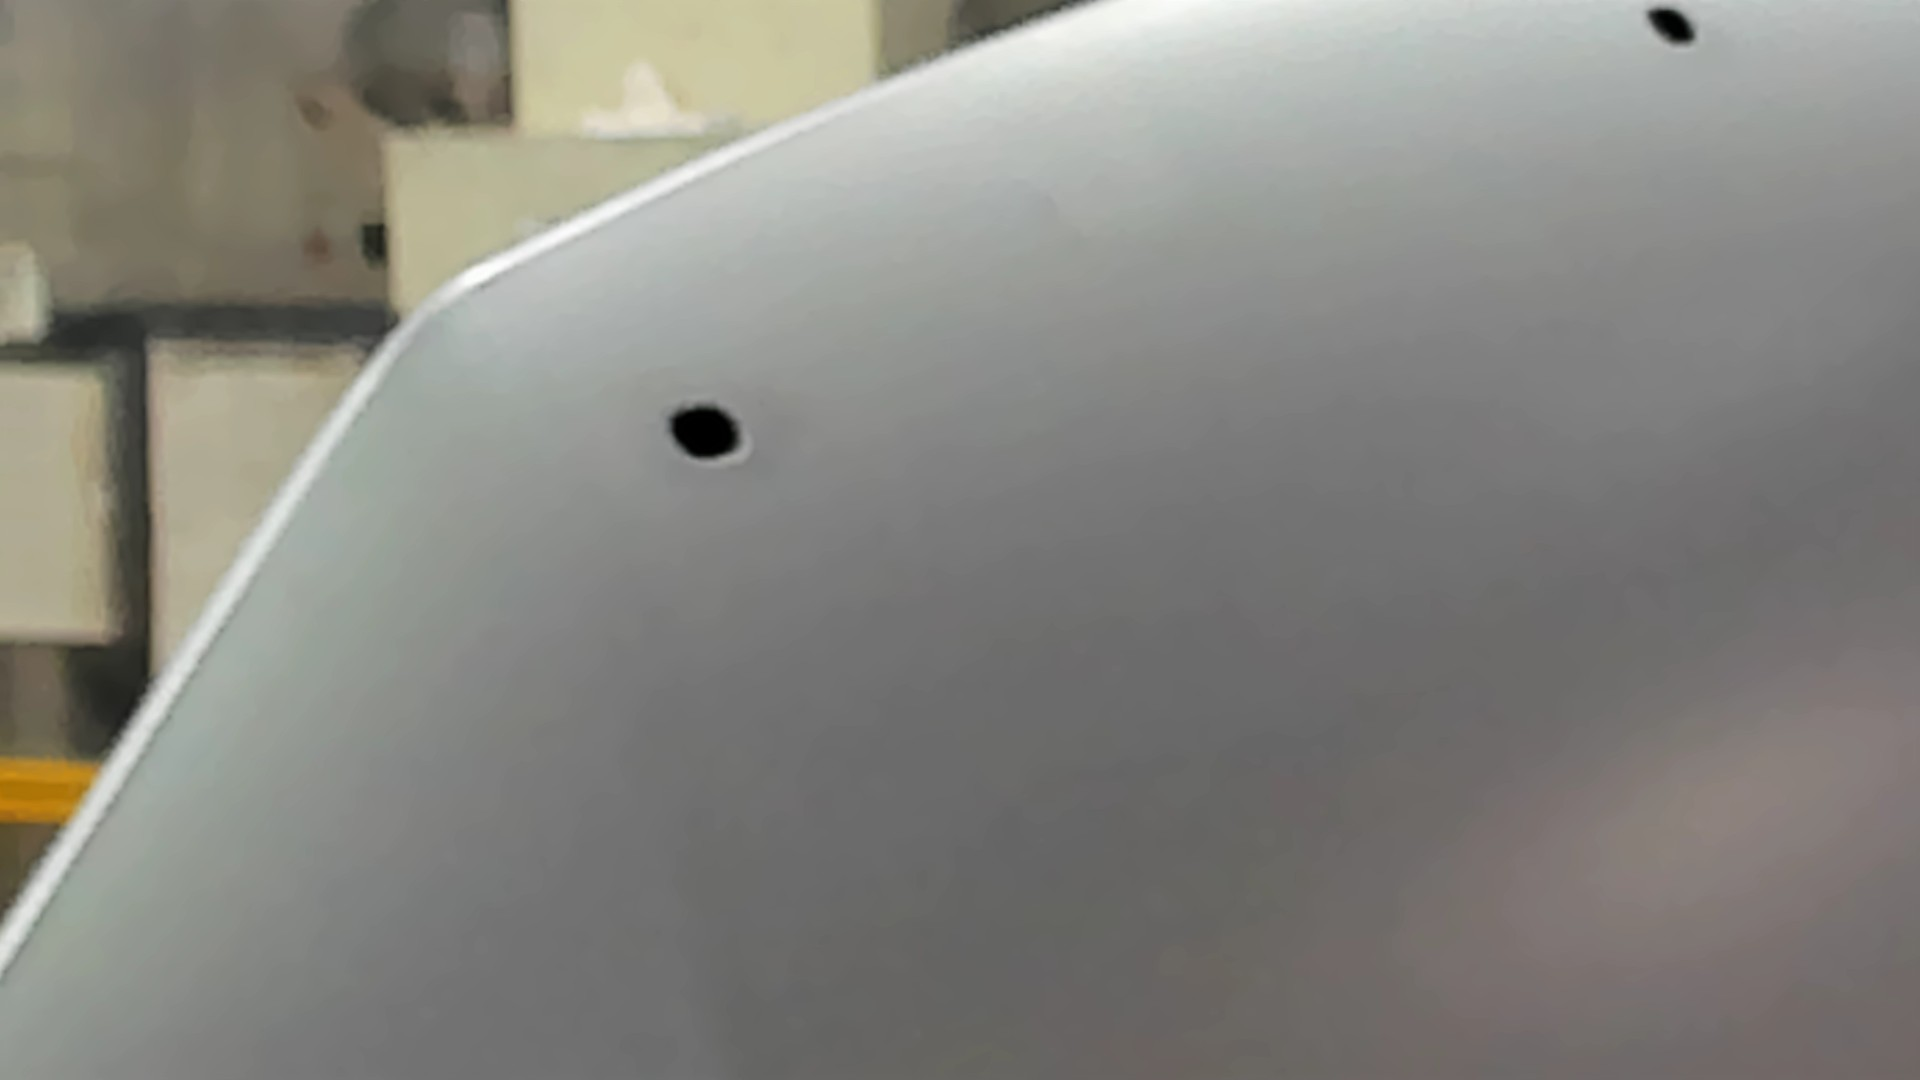amorfo: (659, 390, 750, 467), (1634, 1, 1704, 59)
capo: (857, 169, 1920, 1080)
